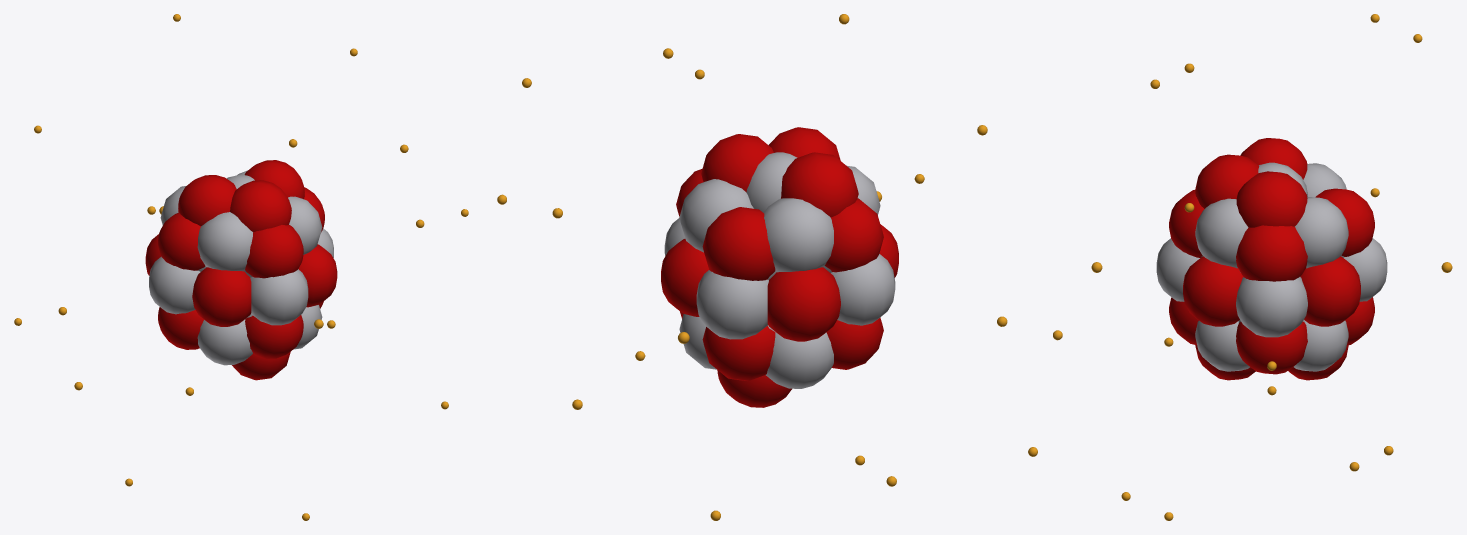
File: Argon.glb
3 views of the same model, side by side, from view 1: azimuth 30°, elevation 25°; view 2: azimuth 150°, elevation 25°; view 3: azimuth 270°, elevation 25° (orthographic). The views are drawn at different scales.
Visible parts, largest first — view 1: Proton04, Neutron11, Neutron18, Proton08, Proton15, Proton16, Neutron10, Proton07, Neutron17, Proton11, Proton03, Proton12 (+4 smaller); view 2: Proton02, Neutron15, Proton06, Neutron09, Proton16, Neutron10, Proton07, Neutron16, Proton13, Neutron19, Proton14, Proton05 (+6 smaller); view 3: Neutron12, Proton09, Proton14, Proton03, Proton05, Neutron19, Neutron14, Proton10, Proton15, Proton06, Neutron20, Neutron13 (+10 smaller).
Part boxes in pixels (x1,y1,x2,y2): Proton04: (192,267,251,326); Neutron11: (250,269,308,325); Neutron18: (197,212,252,271); Proton08: (245,225,303,278); Proton15: (230,180,291,232); Proton16: (178,175,236,226); Neutron10: (149,256,200,314); Proton07: (158,213,205,270); Neutron17: (197,319,252,365); Proton11: (245,315,303,358); Proton03: (298,244,337,307); Proton12: (158,307,203,349); Proton02: (767,267,840,341); Neutron15: (763,198,833,272); Proton06: (702,207,775,280); Neutron09: (696,270,768,339); Proton16: (781,152,858,217); Neutron10: (831,254,895,325); Proton07: (824,198,883,272); Neutron16: (766,332,833,388); Proton13: (702,326,775,380); Neutron19: (679,179,753,252); Proton14: (701,134,773,192); Proton05: (661,239,708,316); Neutron12: (1236,277,1307,337); Proton09: (1236,225,1307,281); Proton14: (1236,171,1307,227); Proton03: (1183,256,1243,326); Proton05: (1300,256,1360,326); Neutron19: (1295,196,1348,268); Neutron14: (1195,198,1248,268); Proton10: (1236,321,1307,374); Proton15: (1195,154,1259,208); Proton06: (1315,188,1374,256); Neutron20: (1294,320,1348,371); Neutron13: (1195,320,1249,371).
Size of the model in its own units: 10.16 by 8.82 by 6.19.
